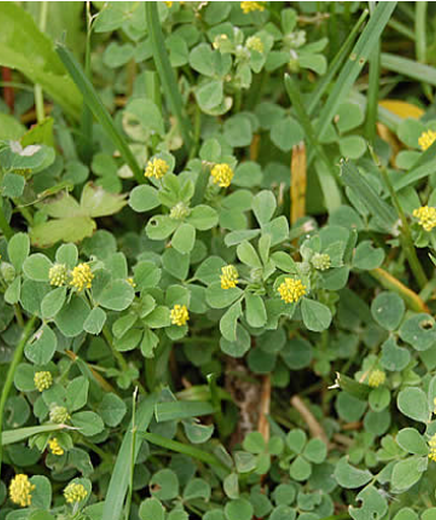oxalis: (7, 63, 417, 452)
